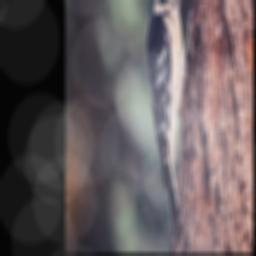Woodpecker: (143, 0, 197, 237)
